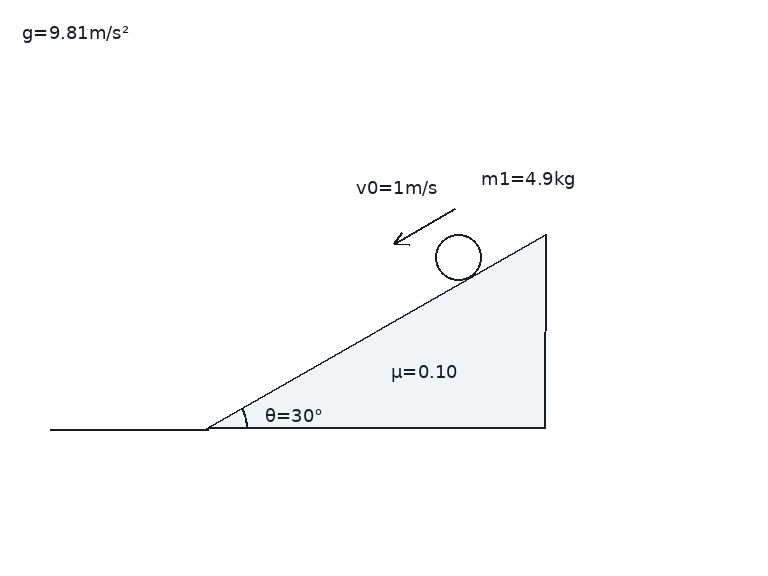ball: (433, 232, 483, 282)
ramp: (205, 232, 546, 430)
